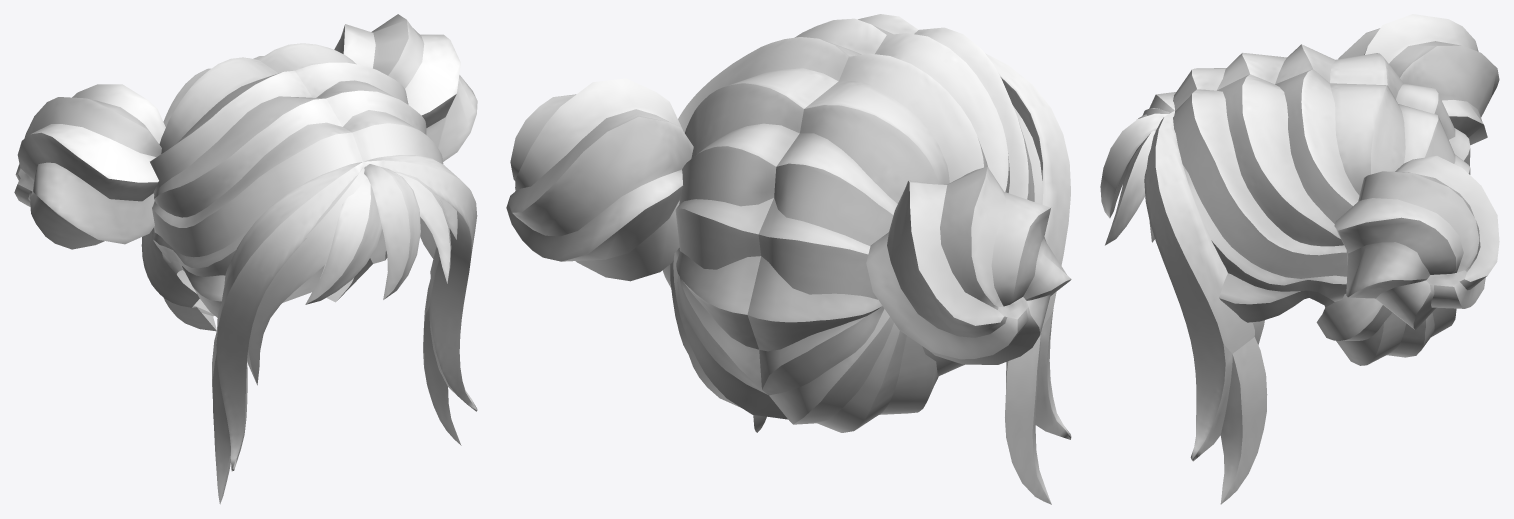
The model's file is hair_buns.glb.
3 views of the same model, side by side, from view 1: azimuth 30°, elevation 25°; view 2: azimuth 150°, elevation 25°; view 3: azimuth 270°, elevation 25° (orthographic). The views are drawn at different scales.
Visible parts, largest first — view 1: Hair_Buns; view 2: Hair_Buns; view 3: Hair_Buns.
Part boxes in pixels (x1=…): Hair_Buns: x1=14, y1=14, x2=477, y2=504; Hair_Buns: x1=506, y1=14, x2=1071, y2=504; Hair_Buns: x1=1100, y1=14, x2=1499, y2=504.
Bounding box in the file's own units: 0.3015 × 0.2491 × 0.2368.
Materials: 1 (1 with a texture image).
